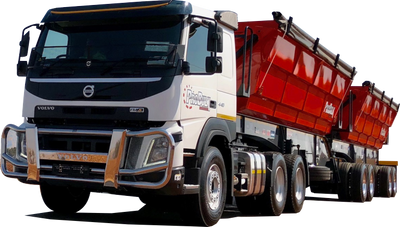truck: (1, 1, 400, 227)
